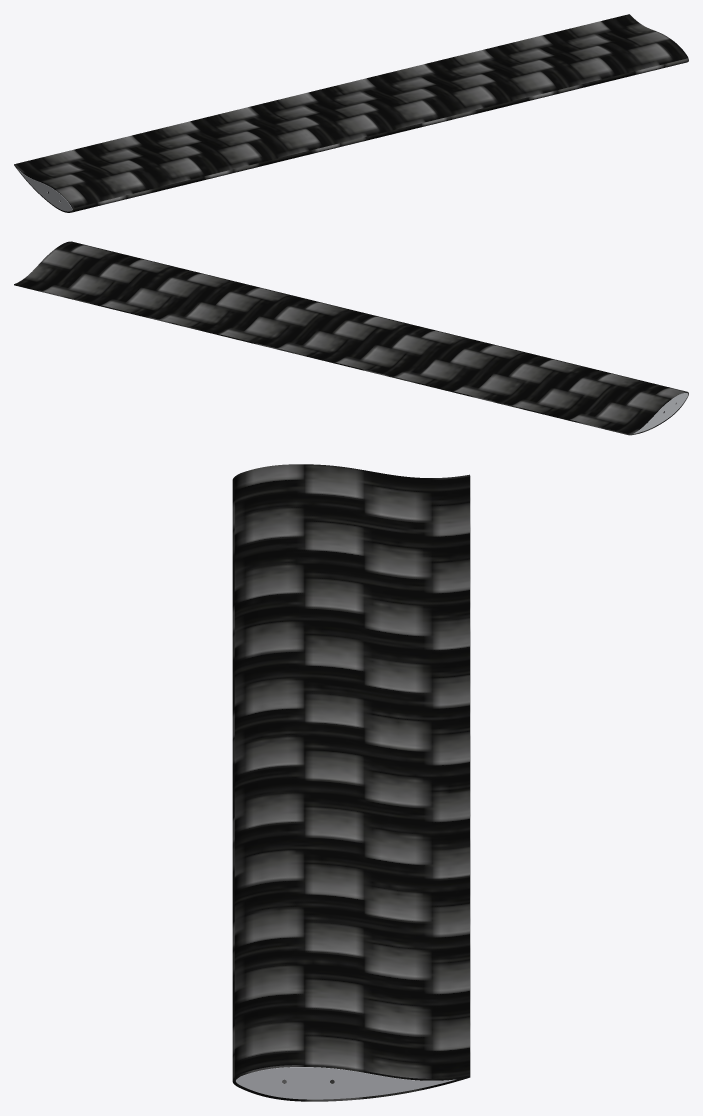
Rendered from wingglb.glb.
3 views of the same model, one above another, from view 1: azimuth 30°, elevation 25°; view 2: azimuth 150°, elevation 25°; view 3: azimuth 270°, elevation 25° (orthographic). The views are drawn at different scales.
Parts seen in each view (by area): view 1: 000_Wing_web, 002_WingFishplate; view 2: 000_Wing_web, 002_WingFishplate; view 3: 000_Wing_web, 001_WingFishplate.
Part boxes in pixels (left/top/right/bottom): 000_Wing_web: left=14, top=14, right=688, bottom=212; 002_WingFishplate: left=17, top=169, right=72, bottom=211; 000_Wing_web: left=14, top=241, right=688, bottom=435; 002_WingFishplate: left=633, top=393, right=688, bottom=433; 000_Wing_web: left=232, top=464, right=470, bottom=1101; 001_WingFishplate: left=236, top=1067, right=455, bottom=1099.
Size of the model in its own units: 270 by 7.69 by 45.15.
Materials: 2 (1 with a texture image).
